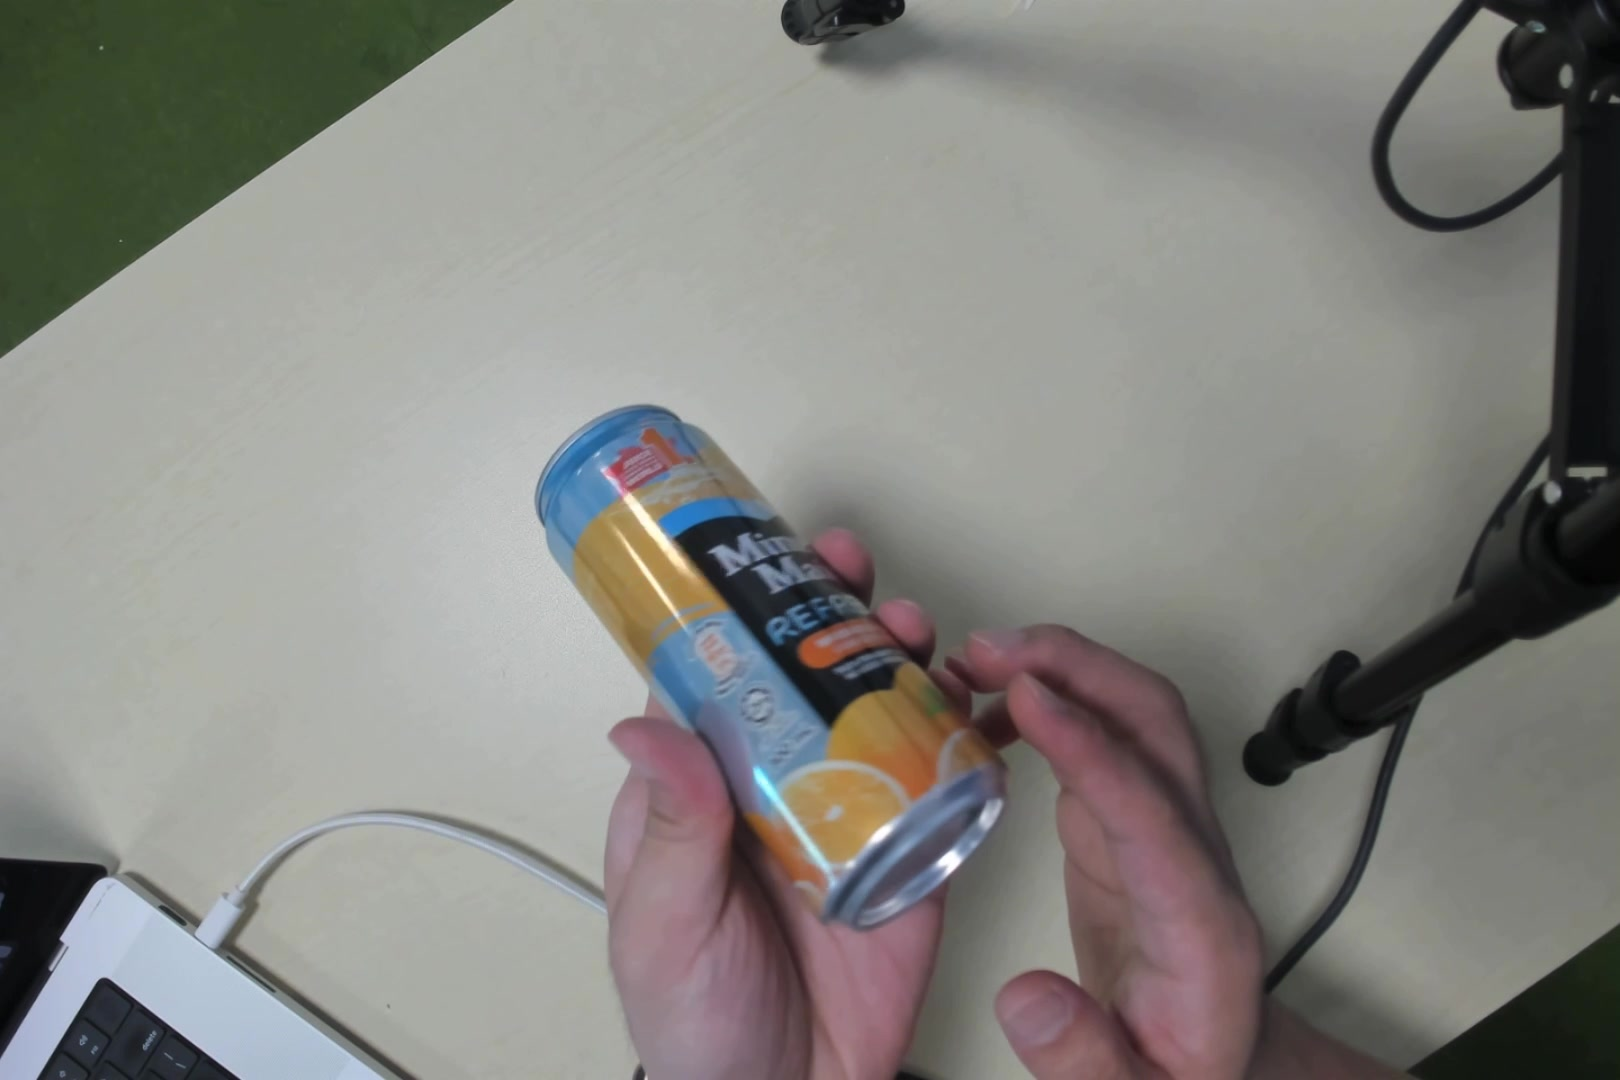SoftDrinks_200-299g_Halal_Healthy: (579, 415, 981, 915)
